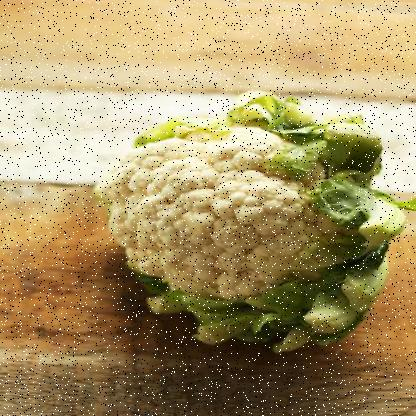cauliflower: (91, 102, 412, 355)
